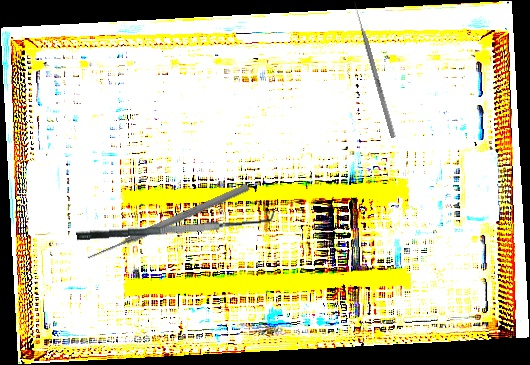Pusher: (84, 181, 251, 264), (352, 0, 396, 139)
Spatula Surgical: (75, 204, 276, 242)
